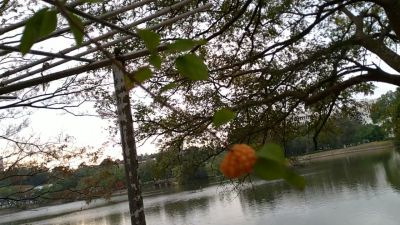eggs: (219, 144, 256, 180)
